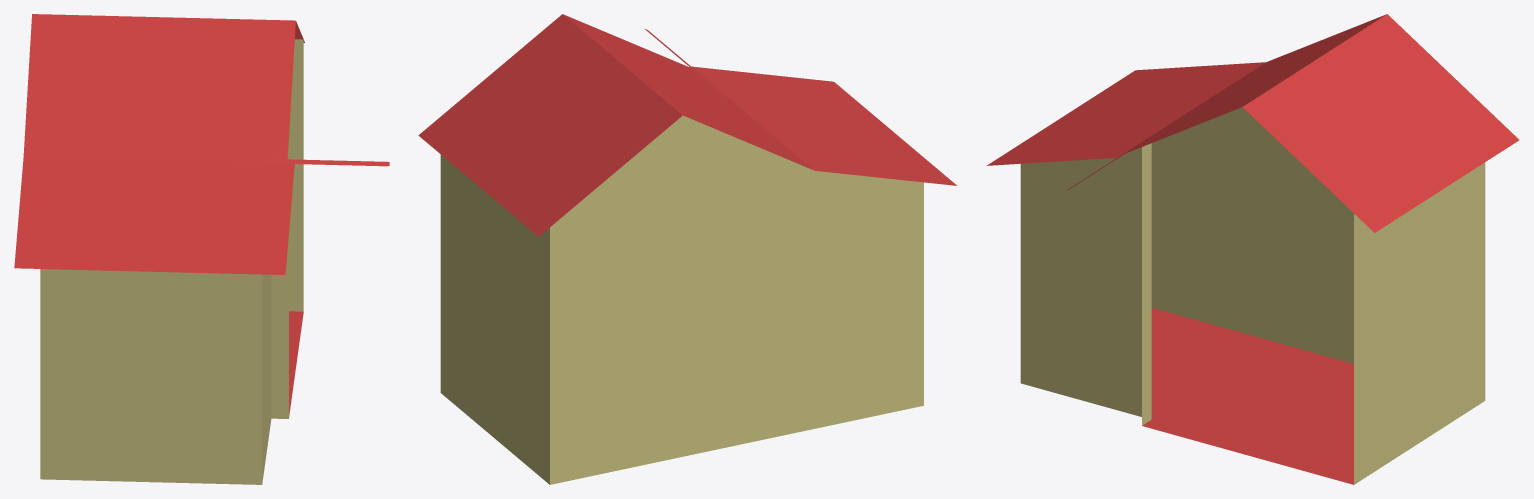
3 renders of one model, left to right at view 1: azimuth 30°, elevation 25°; view 2: azimuth 150°, elevation 25°; view 3: azimuth 270°, elevation 25°, orthographic.
Bounding box in the file's own units: 9.57 × 10.78 × 7.74.
